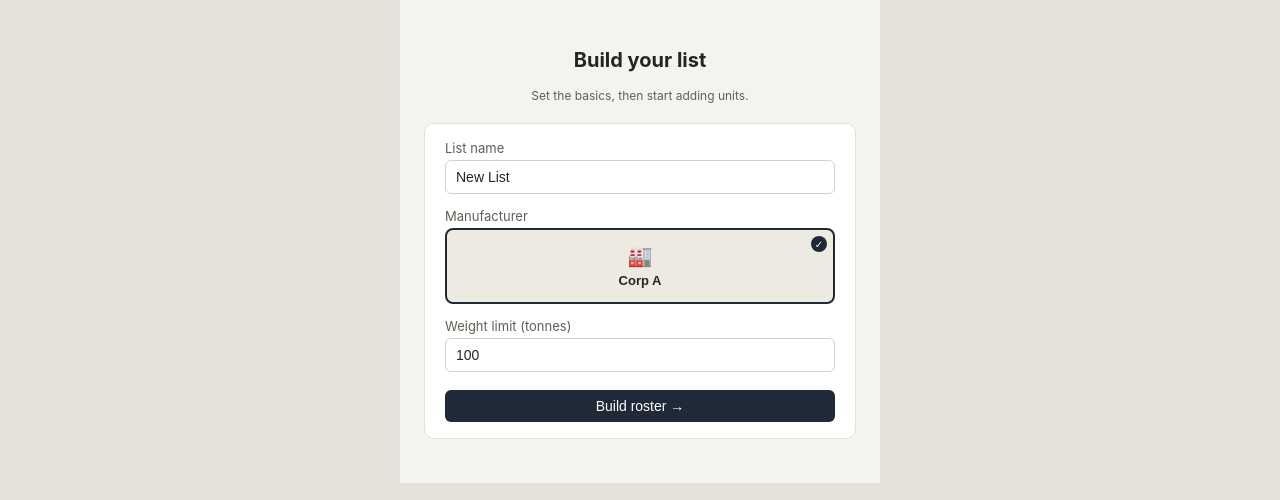
it: ListBuilderPage › adds a catalog unit to the roster
Click the button "Build roster →" at (640, 406), box [445,390,835,422]
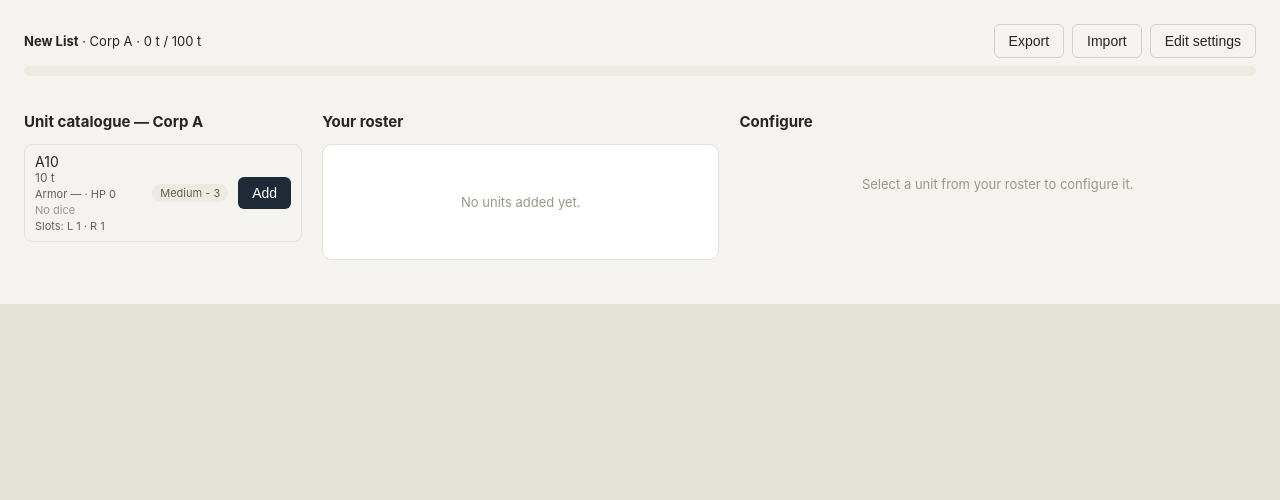
Result: the text "No units added yet." is shown at [461,194,581,210]
Click the button "Add" at (265, 193), box [238,177,291,209]
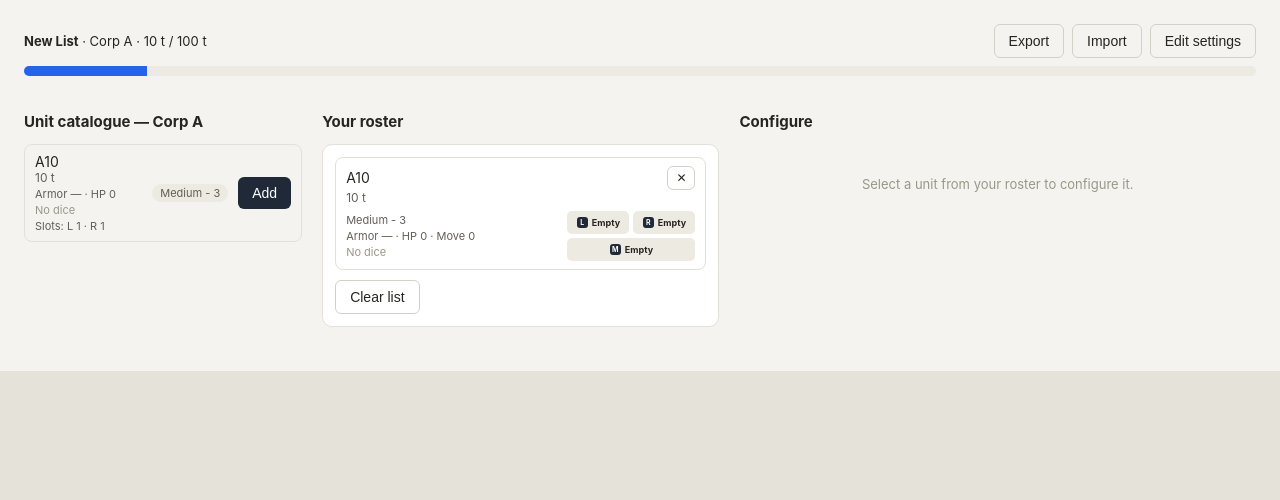
Result: the text "No units added yet." is gone
Result: the text "A10" is shown 2 times at [35,153,59,170]; [346,169,370,186]
